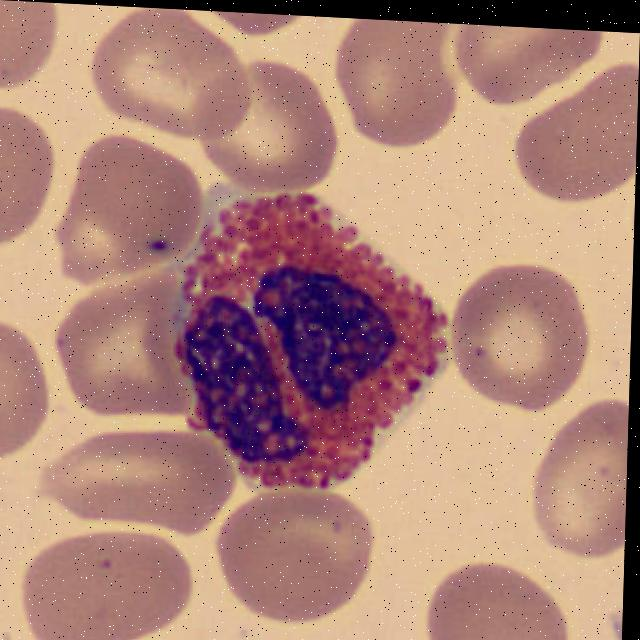eosinophil: (166, 177, 454, 498)
rbc: (214, 474, 383, 640), (81, 5, 257, 150), (43, 260, 187, 433), (35, 419, 235, 542), (444, 255, 593, 419), (184, 58, 344, 204), (52, 140, 199, 286), (503, 48, 639, 200), (21, 525, 196, 640), (513, 394, 629, 554), (333, 17, 461, 146), (439, 23, 608, 118), (408, 557, 579, 640), (0, 112, 56, 250), (0, 324, 46, 470), (0, 0, 64, 103), (207, 11, 300, 45)
